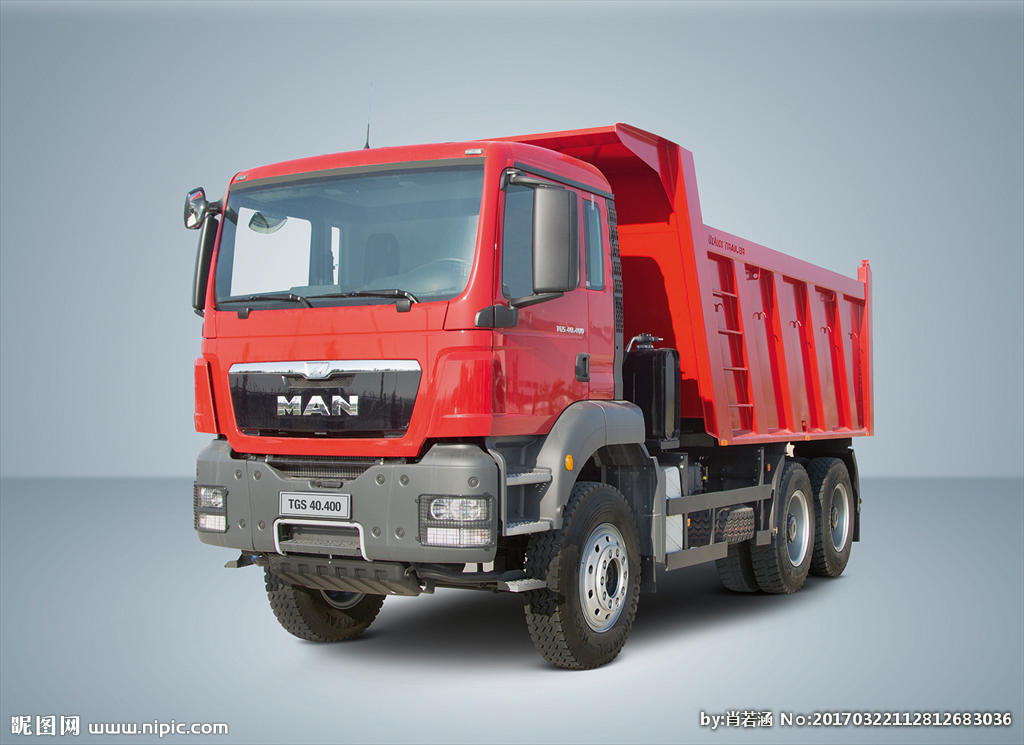truck: (89, 113, 961, 686)
